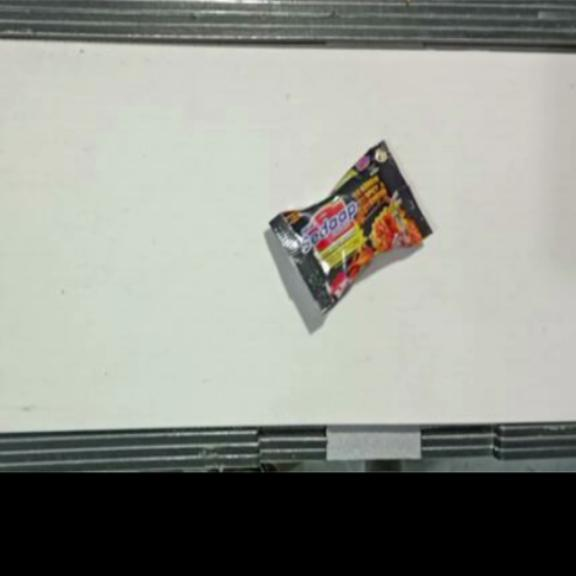Plastik: (268, 140, 434, 317)
